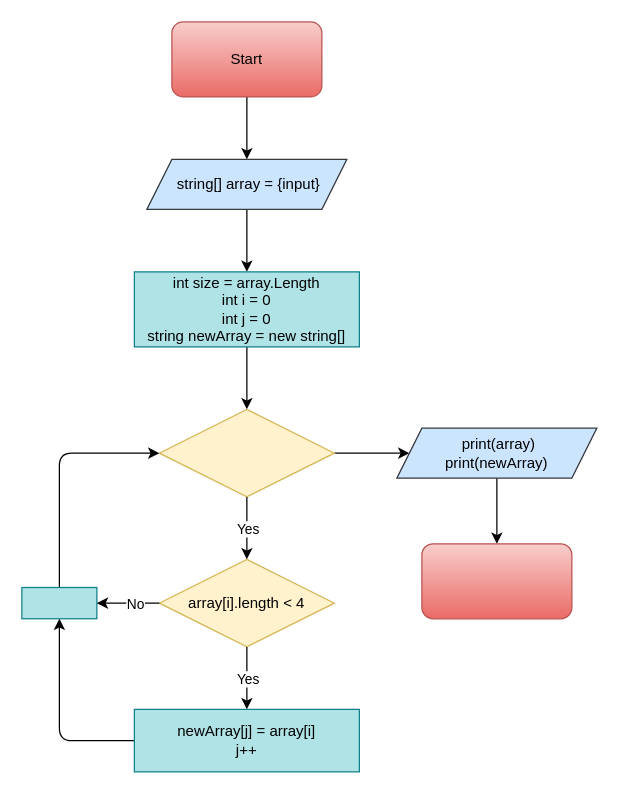
This 619x794 diagram has some shape labels left out. The centre of each missing label's shape, as x and y in pixels:
"End" goes at (496,580).
"i < size" goes at (246,452).
"i++" goes at (59,602).
